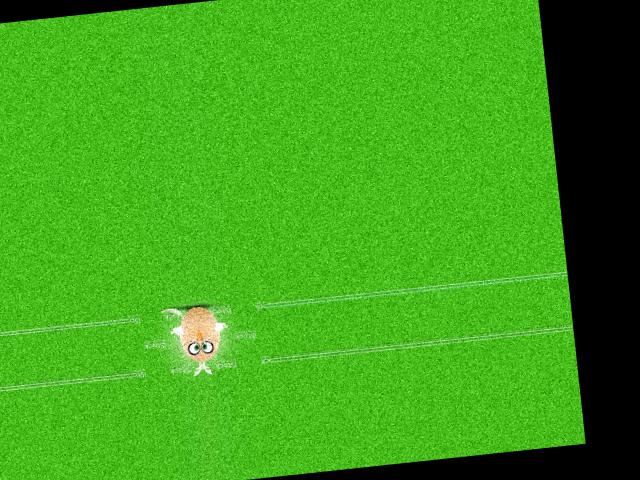egg: (176, 303, 221, 363)
